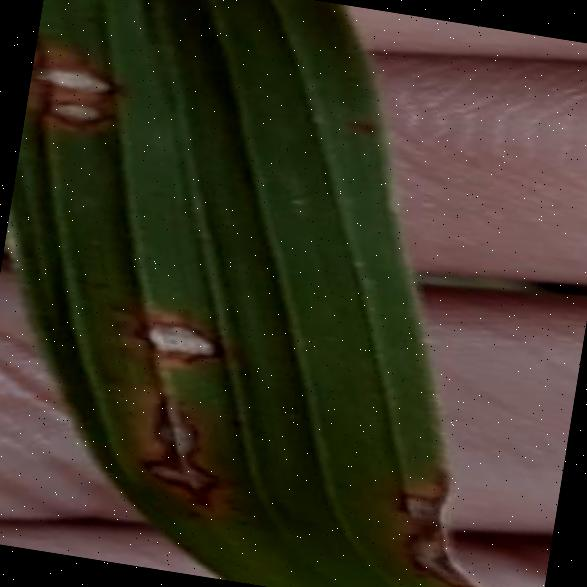Leaf_smut: (90, 260, 246, 386), (371, 440, 472, 544), (105, 384, 218, 460), (397, 527, 525, 587), (136, 446, 238, 517), (28, 42, 135, 108), (32, 91, 126, 143)
